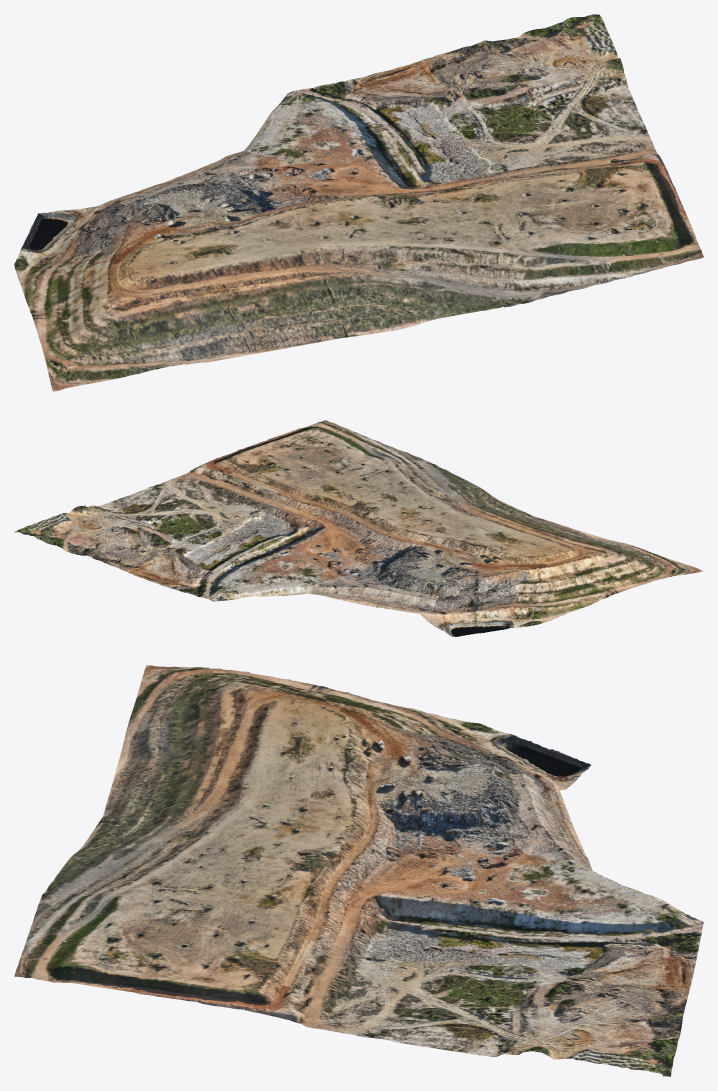
Rendered from TN-01-05-24_3DPrint.gltf.
The picture shows the model from 3 angles, top to bottom: view 1: azimuth 30°, elevation 25°; view 2: azimuth 150°, elevation 25°; view 3: azimuth 270°, elevation 25°; orthographic projection. The views are drawn at different scales.
Visible parts, largest first — view 1: TN-01-05-24; view 2: TN-01-05-24; view 3: TN-01-05-24.
Part boxes in pixels (bbox=[...]): TN-01-05-24: bbox=[14, 14, 703, 391]; TN-01-05-24: bbox=[14, 420, 702, 636]; TN-01-05-24: bbox=[14, 665, 703, 1076].
Bounding box in the file's own units: 555 × 30.68 × 363.
1 material, 1 textured.
